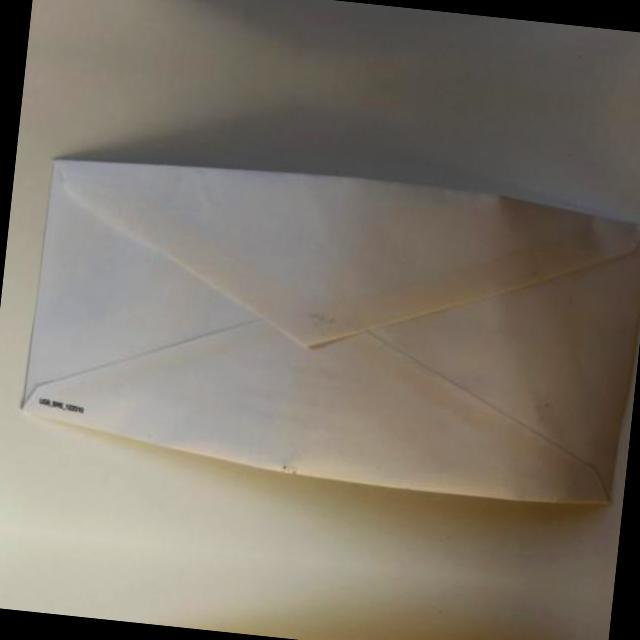paper: (15, 145, 640, 510)
